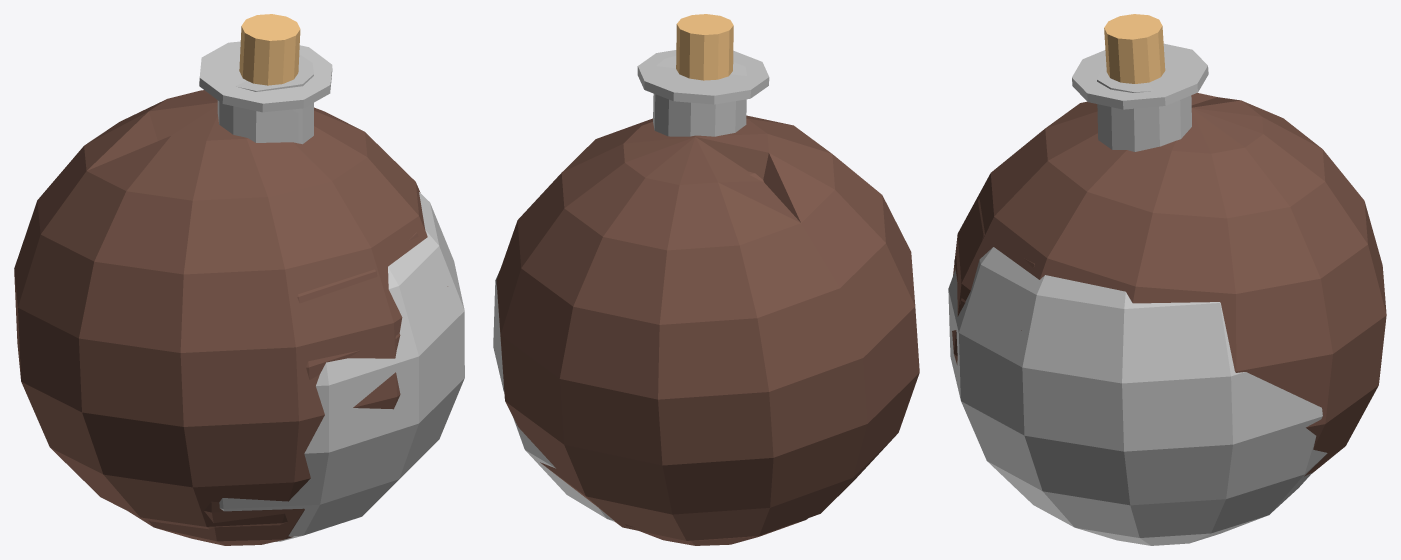
3 renders of one model, left to right at view 1: azimuth 30°, elevation 25°; view 2: azimuth 150°, elevation 25°; view 3: azimuth 270°, elevation 25°, orthographic. The views are drawn at different scales.
Parts seen in each view (by area): view 1: mesh_368332543, mesh_731431601, group_786436442, mesh_670610196, mesh_1010660110, mesh_990653714, mesh_134716821; view 2: mesh_368332543, group_786436442, mesh_670610196, mesh_1010660110, mesh_731431601, mesh_990653714; view 3: mesh_368332543, mesh_731431601, group_786436442, mesh_1010660110, mesh_670610196.
Boxes of the visible parts, x1,y1,x2,y2 form: mesh_368332543: (14,90,447,529); mesh_731431601: (219,192,464,541); group_786436442: (199,41,332,112); mesh_670610196: (239,14,300,85); mesh_1010660110: (217,55,313,144); mesh_990653714: (129,501,304,545); mesh_134716821: (297,232,418,379); mesh_368332543: (496,115,919,541); group_786436442: (637,50,769,104); mesh_670610196: (676,14,733,80); mesh_1010660110: (653,56,746,136); mesh_731431601: (493,270,614,521); mesh_990653714: (624,518,807,545); mesh_368332543: (952,93,1386,476); mesh_731431601: (948,247,1327,545); group_786436442: (1072,43,1208,109); mesh_1010660110: (1097,61,1191,151); mesh_670610196: (1104,14,1165,83).
Bounding box in the file's own units: 22.74 × 28.51 × 22.43.
